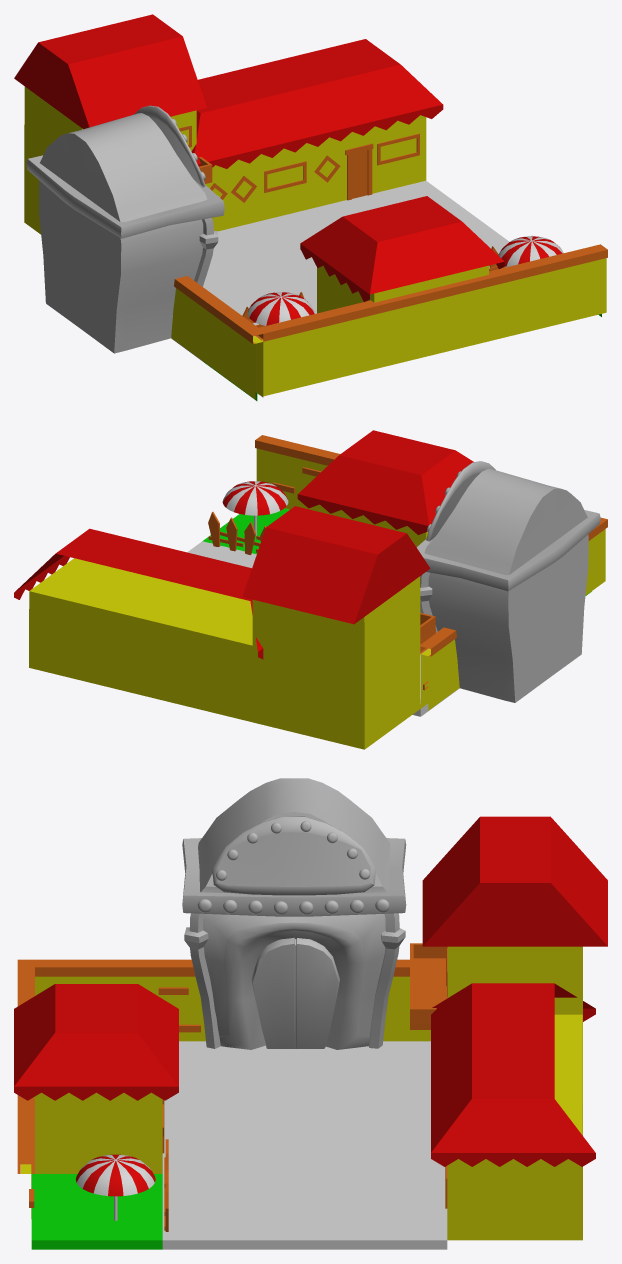
The model's file is roadseg4.fbx.
3 views of the same model, one above another, from view 1: azimuth 30°, elevation 25°; view 2: azimuth 150°, elevation 25°; view 3: azimuth 270°, elevation 25° (orthographic). The views are drawn at different scales.
Parts seen in each view (by area): view 1: Box002, Cube.376, Cube.428, Cube.357, Cube.411, Cube.355, Cube.371, Cube.370, Cube.356, Cube.446, Cube.438, Cube.404 (+6 smaller); view 2: Box002, Cube.371, Cube.438, Cube.428, Cube.411, Cube.376, Cube.446, Cube.370, Cube.356, Cube.355, Cylinder.019, Cylinder.018 (+3 smaller); view 3: Cube.355, Box002, Cube.376, Cube.428, Cube.411, Cube.371, Cube.404, Cube.427, Cube.438, Cube.446, Cube.447, Cube.435 (+3 smaller).
Boxes of the visible parts, x1,y1,x2,y2 form: Box002: (26,105,224,353); Cube.376: (191,39,443,168); Cube.428: (14,14,206,128); Cube.357: (258,286,491,396); Cube.411: (300,196,504,301); Cube.355: (171,180,509,360); Cube.371: (205,115,426,231); Cube.370: (376,258,606,367); Cube.356: (256,244,607,341); Cube.446: (171,288,263,399); Cube.438: (24,86,196,234); Cube.404: (317,265,489,313); Box002: (416,461,600,702); Cube.371: (29,558,252,722); Cube.438: (252,576,420,749); Cube.428: (242,506,430,624); Cube.411: (297,430,473,534); Cube.376: (14,528,263,659); Cube.446: (420,529,605,710); Cube.370: (256,448,327,510); Cube.356: (255,435,340,465); Cube.355: (187,541,459,716); Cylinder.019: (222,481,288,535); Cylinder.018: (222,481,287,515); Cube.355: (162,1041,447,1249); Box002: (182,778,406,1049); Cube.376: (431,983,595,1166); Cube.428: (422,816,607,946); Cube.411: (14,984,178,1100); Cube.371: (447,1014,582,1240); Cube.404: (32,1092,162,1173); Cube.427: (31,1174,162,1249); Cube.438: (447,946,582,1103); Cube.446: (35,976,430,1041); Cube.447: (17,959,409,976); Cube.435: (410,943,447,1029).
Size of the model in its own units: 2508 by 1143 by 2525.
